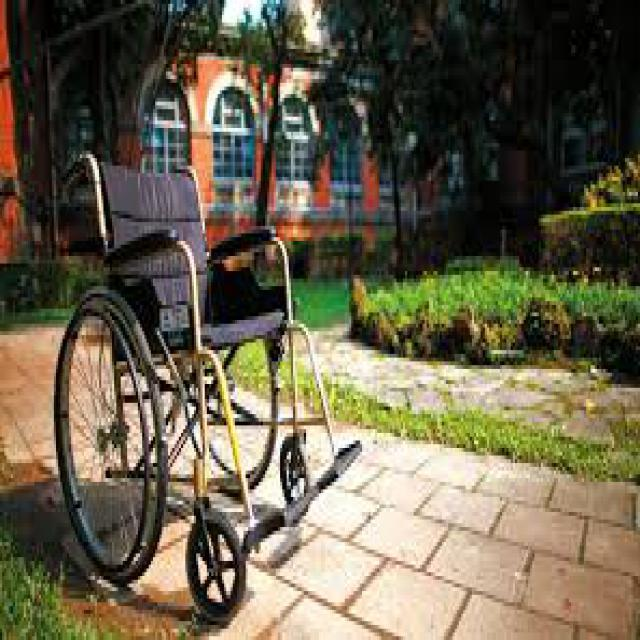wheelchair: (45, 139, 371, 629)
